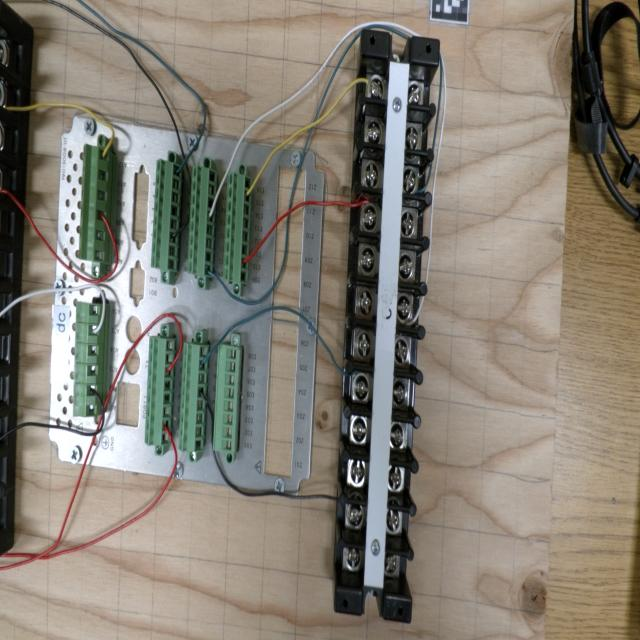Phillips_Block: (334, 30, 439, 623)
Terminal_1: (78, 144, 110, 263), (73, 302, 101, 418)
Terminal_2: (150, 159, 183, 272), (144, 337, 177, 447), (187, 164, 218, 278), (178, 342, 208, 453), (223, 172, 252, 284)
